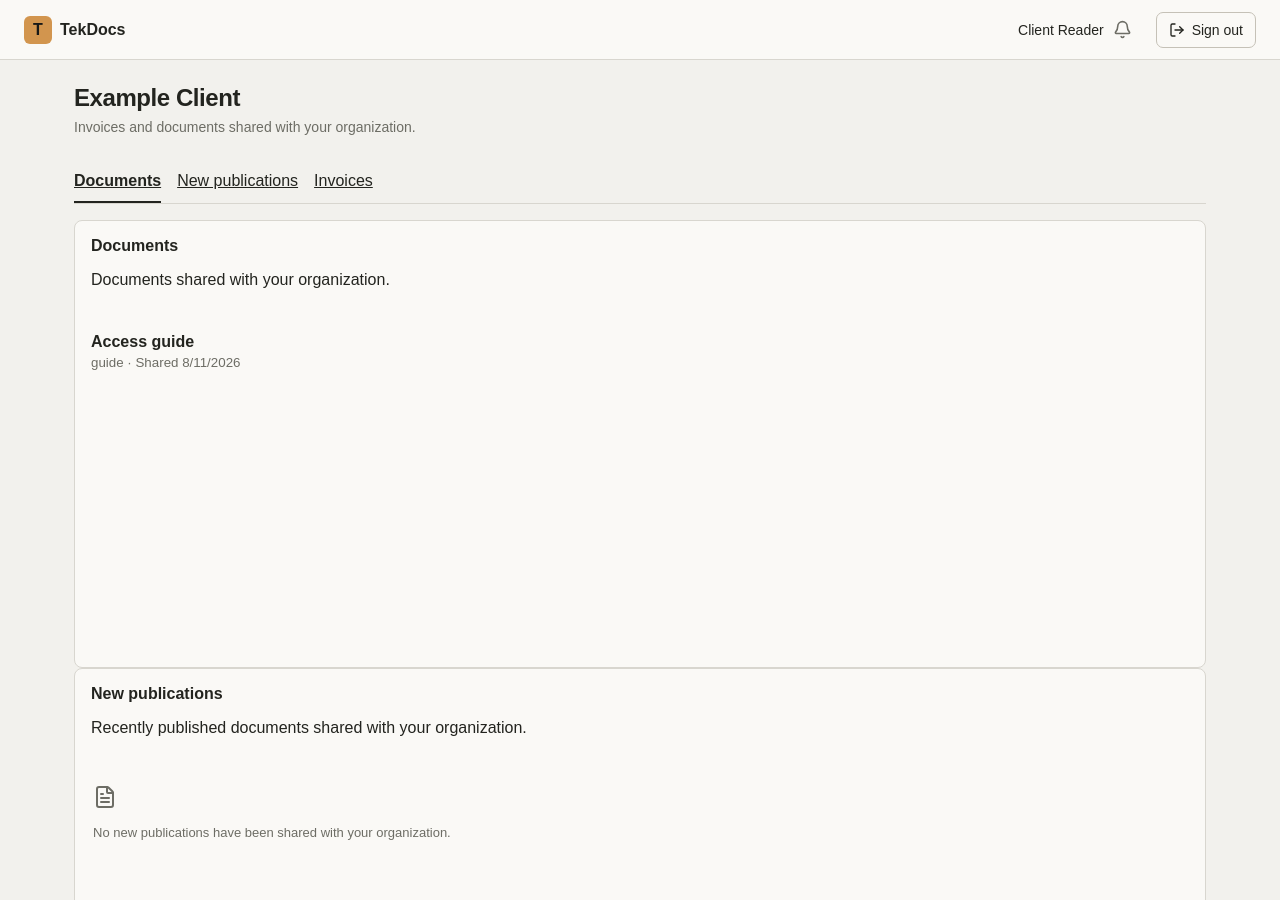
Test: ClientPortal › lists and opens a document without exposing publication internals
Click the button "Access guide guide · Shared 8/11/2026".
click(143, 341)  # box [91,321,1189,382]
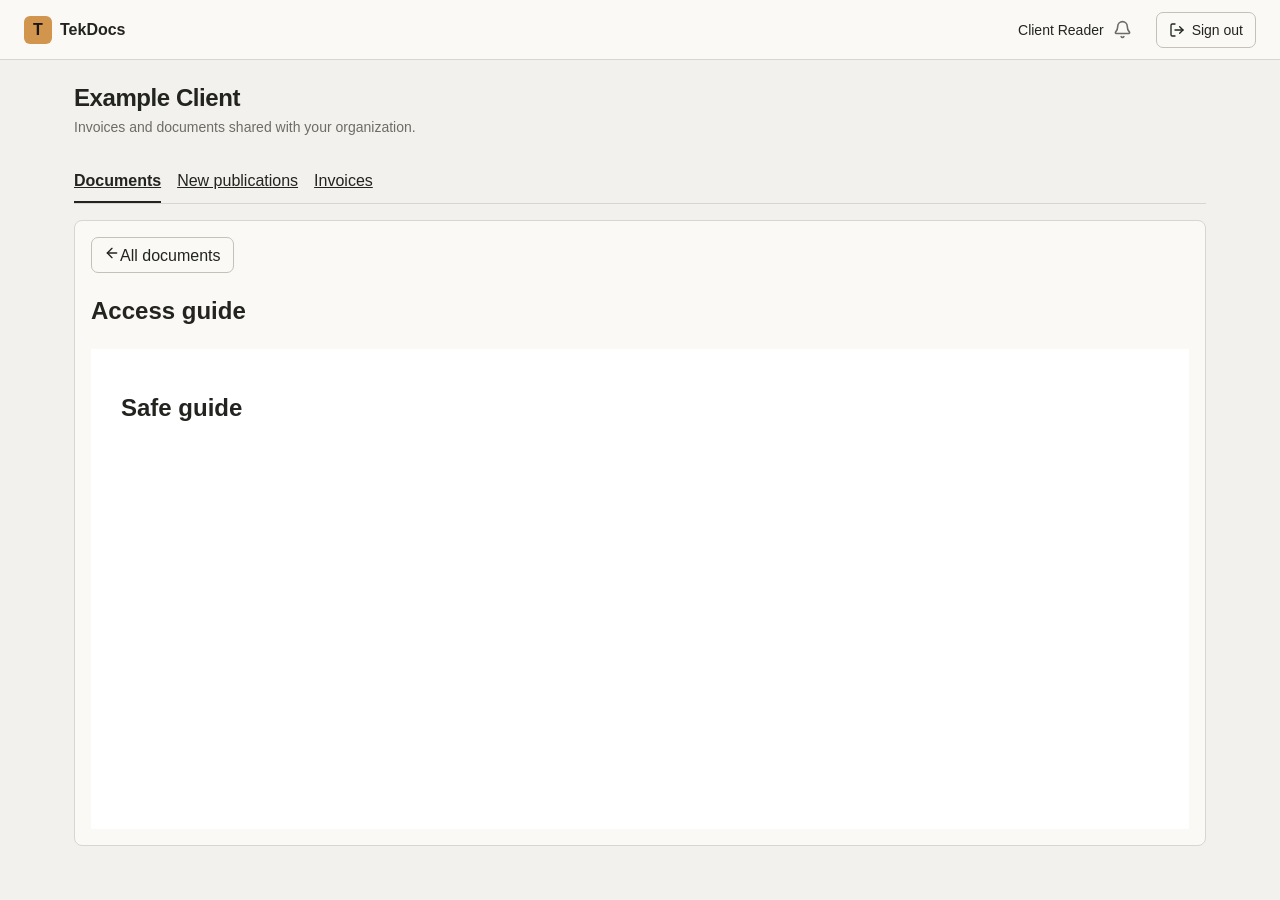
Expected: the heading "Safe guide" is shown, [121,394,242,422]
Expected: the button "All documents" is shown, [91,237,234,273]
